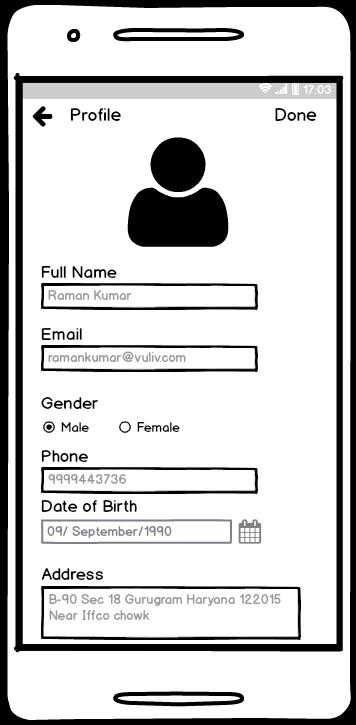CheckedTextView: (119, 421, 180, 434), (44, 421, 90, 434)
EditText: (42, 586, 302, 640), (41, 345, 259, 373), (41, 467, 259, 495), (41, 283, 258, 310), (41, 519, 233, 545)
Icon: (127, 137, 229, 249), (239, 520, 262, 544), (33, 106, 54, 127)
Text: (42, 499, 138, 514), (42, 266, 118, 279), (71, 108, 123, 123), (42, 568, 105, 580), (42, 397, 100, 410), (42, 449, 90, 463), (42, 327, 84, 342), (275, 108, 317, 122), (138, 421, 180, 433), (62, 421, 90, 433)
